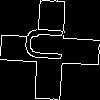U: (25, 25, 73, 64)
